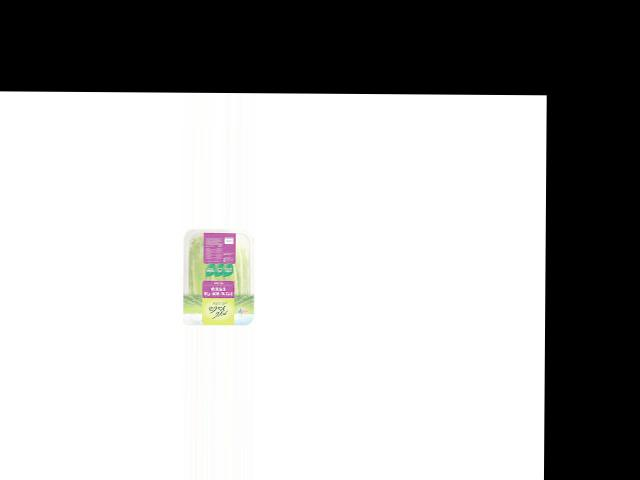lettuce: (182, 228, 256, 318)
